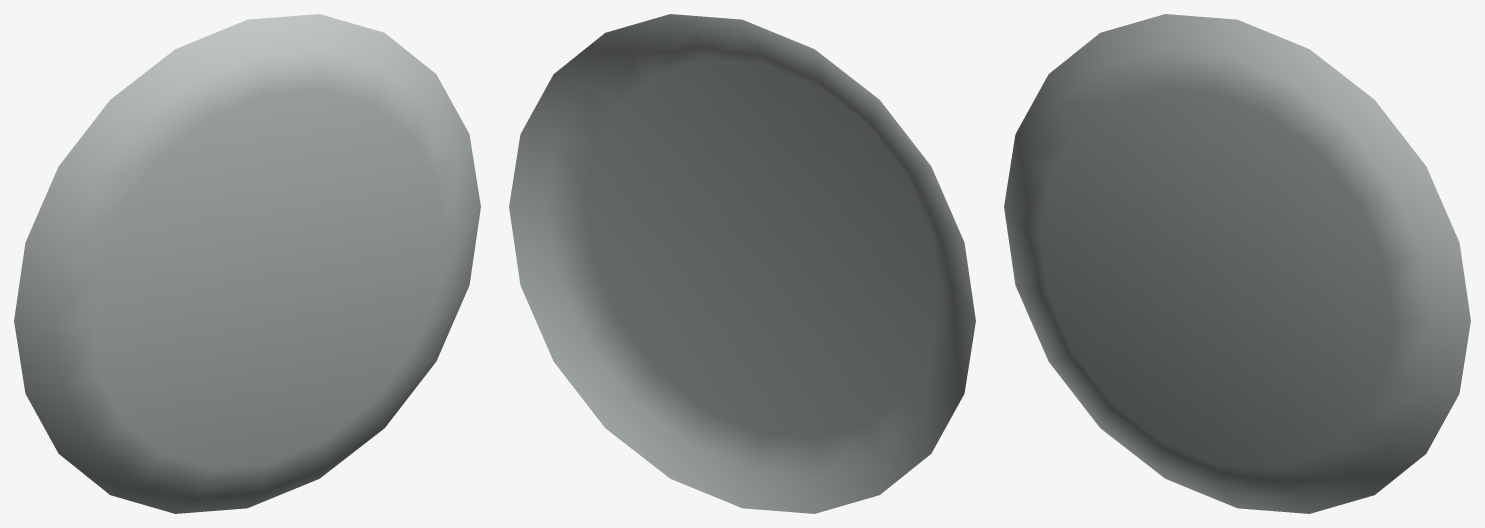
The model's file is vetro_altimetro_V2.fbx.
The picture shows the model from 3 angles, left to right: view 1: azimuth 30°, elevation 25°; view 2: azimuth 150°, elevation 25°; view 3: azimuth 330°, elevation 25°; orthographic projection.
Visible parts, largest first — view 1: vetro_altimetro; view 2: vetro_altimetro; view 3: vetro_altimetro.
Boxes of the visible parts, x1=… form: vetro_altimetro: x1=14, y1=14, x2=480, y2=513; vetro_altimetro: x1=509, y1=14, x2=975, y2=513; vetro_altimetro: x1=1004, y1=14, x2=1470, y2=513.
Size of the model in its own units: 13.8 by 13.8 by 1.05.
